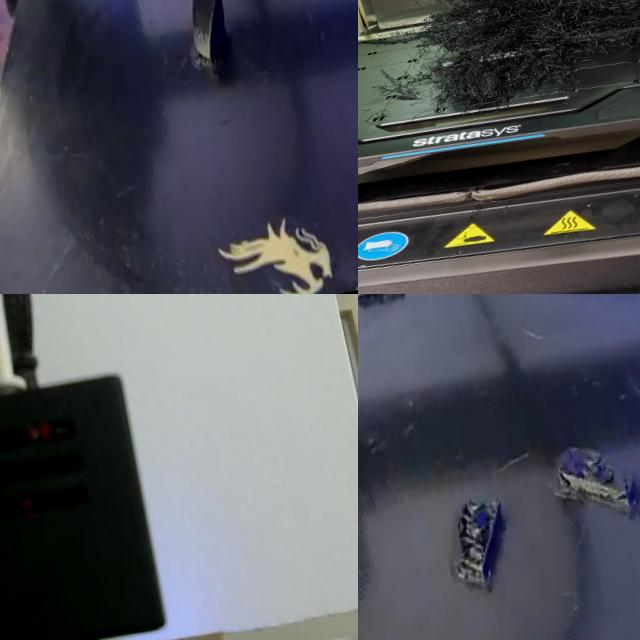spaghetti: (358, 0, 640, 148)
